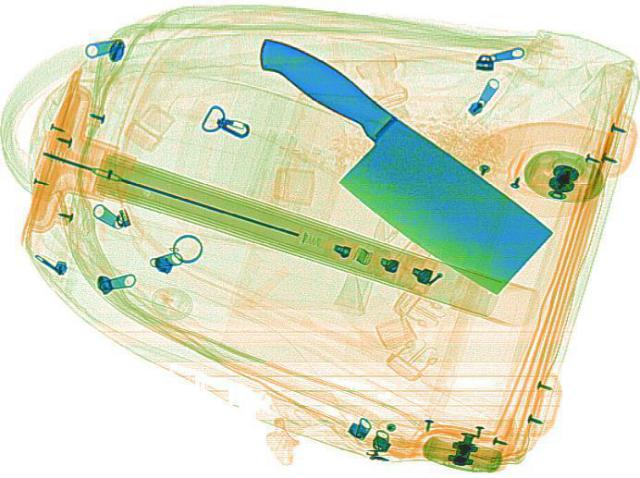Knife: (207, 15, 576, 301)
